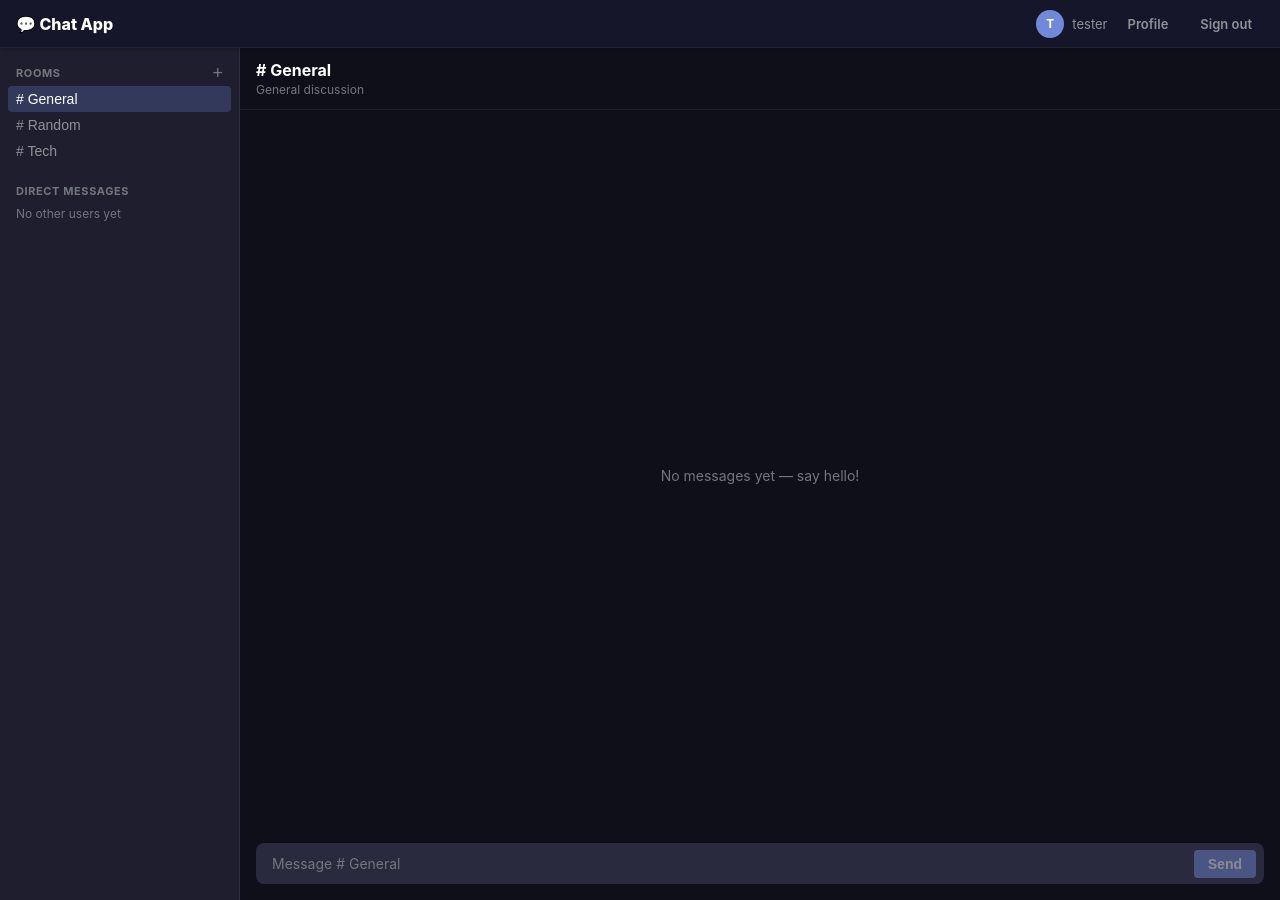
Test: ChatPage › can create a new room
Click the button named "new room": coordinates (218, 73) 212,64 -> 223,82
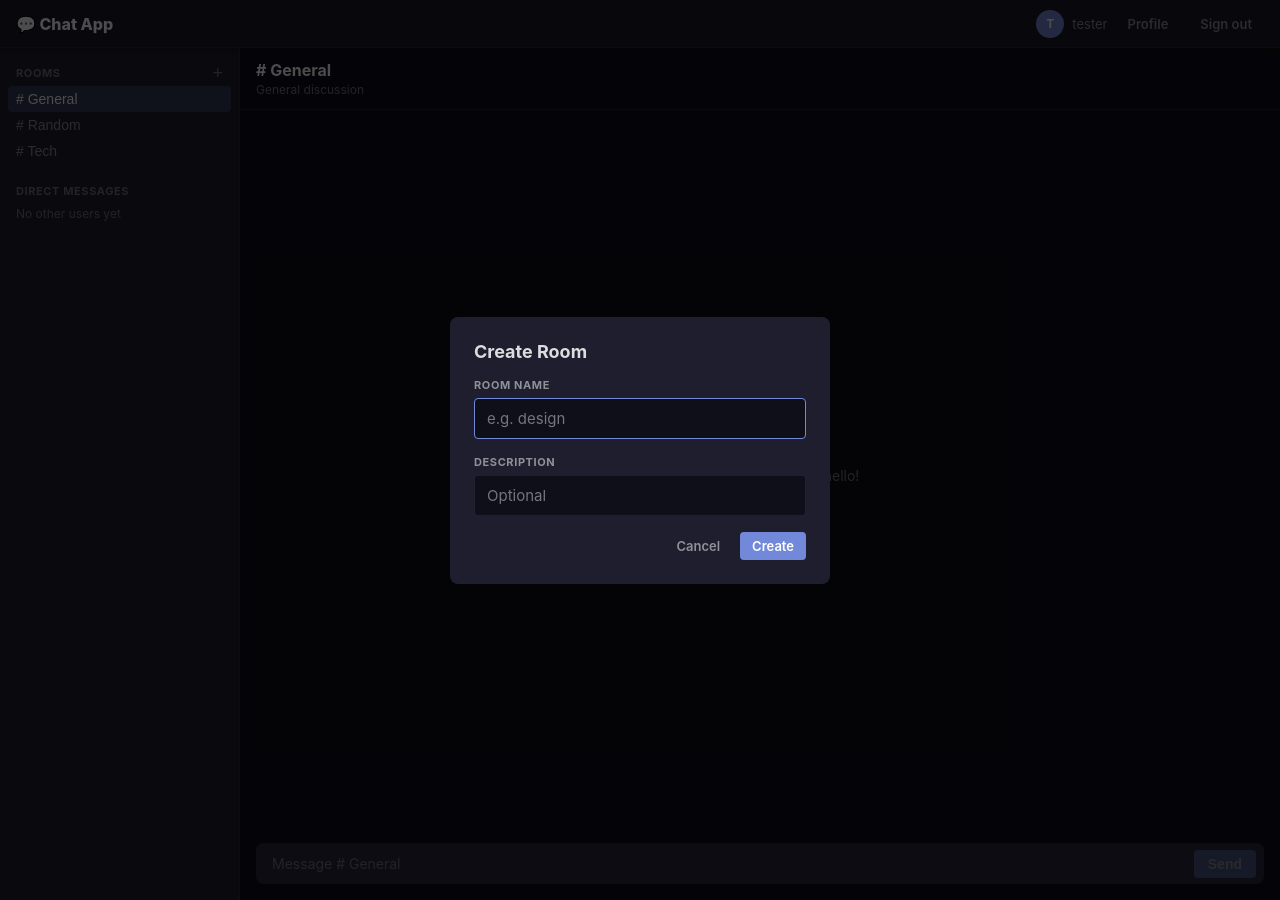
In the field labelled "Room Name": coordinates (640, 418) 474,398 -> 806,438, type "design"
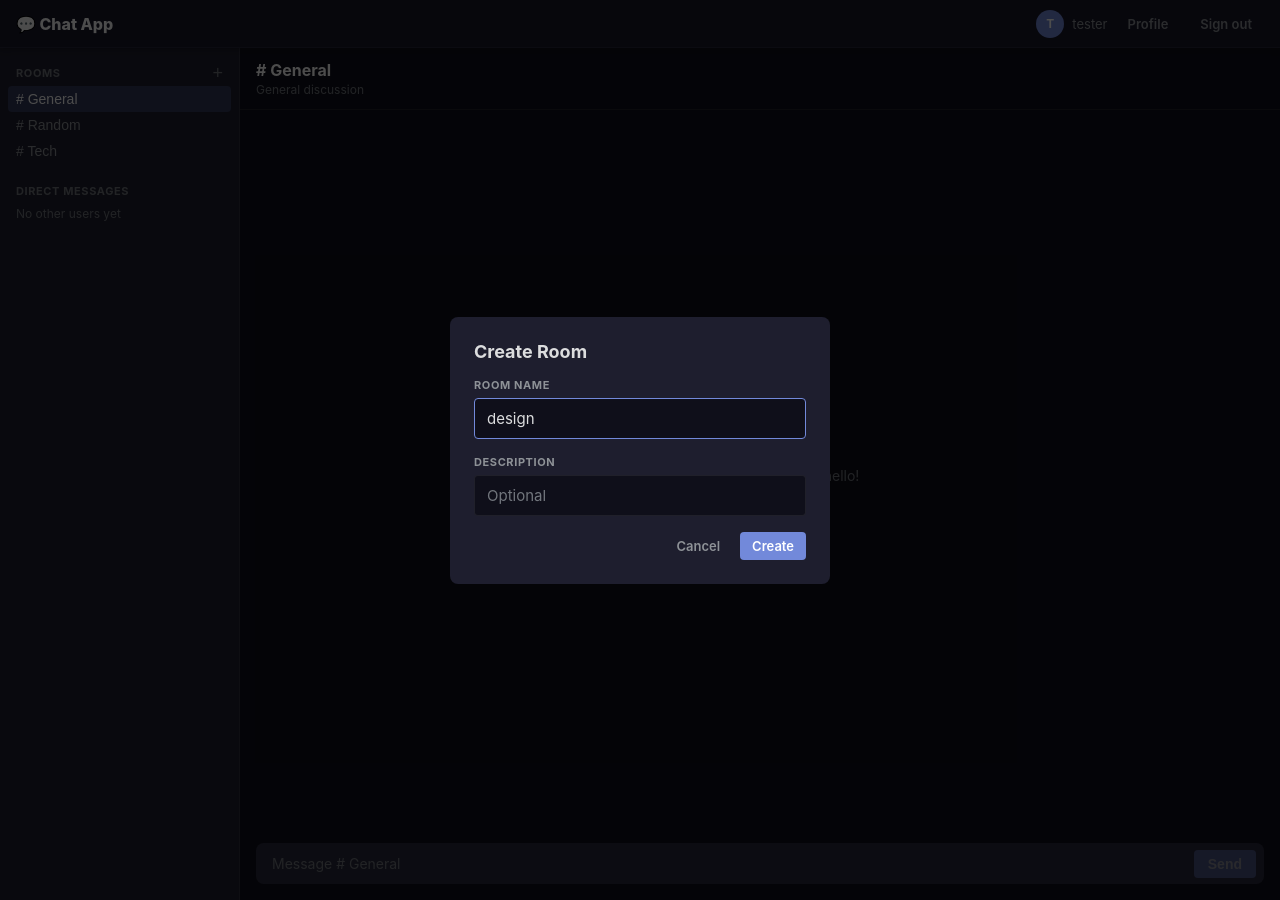
Submit the form labelled "Room Name Description Cancel Create", box 474,378 -> 806,560
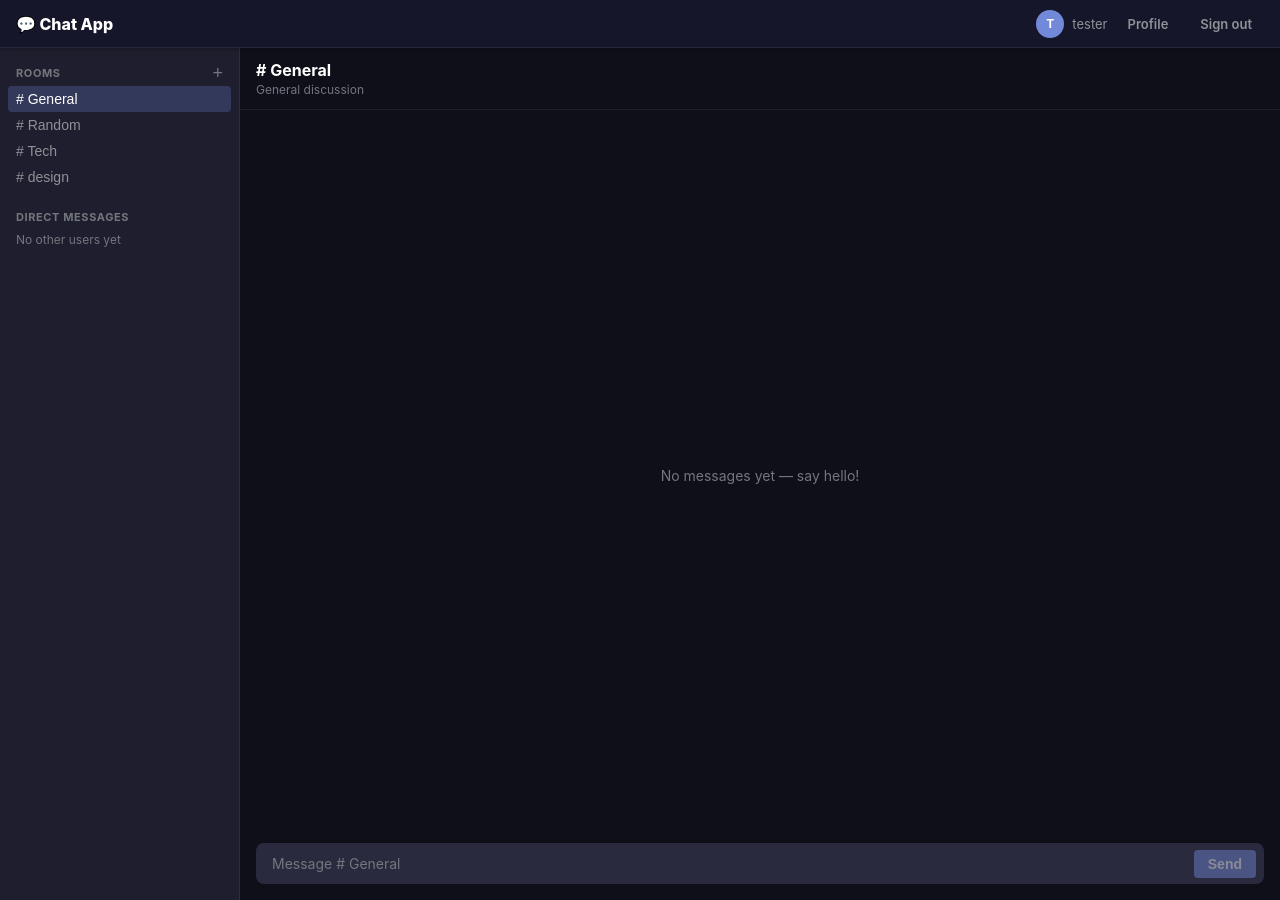
Check: the button "# design" is shown, box 8,164 -> 231,190
